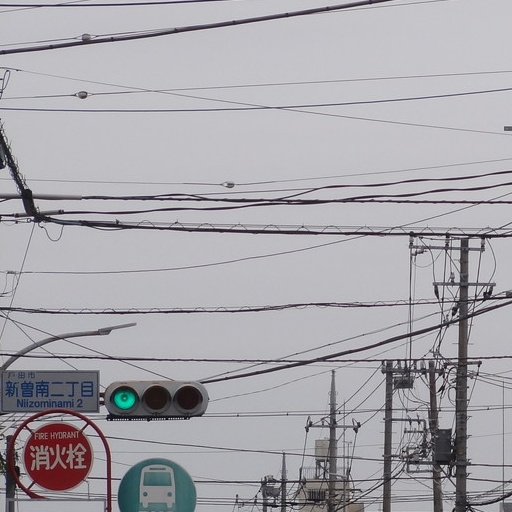Traffic_Signal_Blue: (99, 376, 211, 420)
